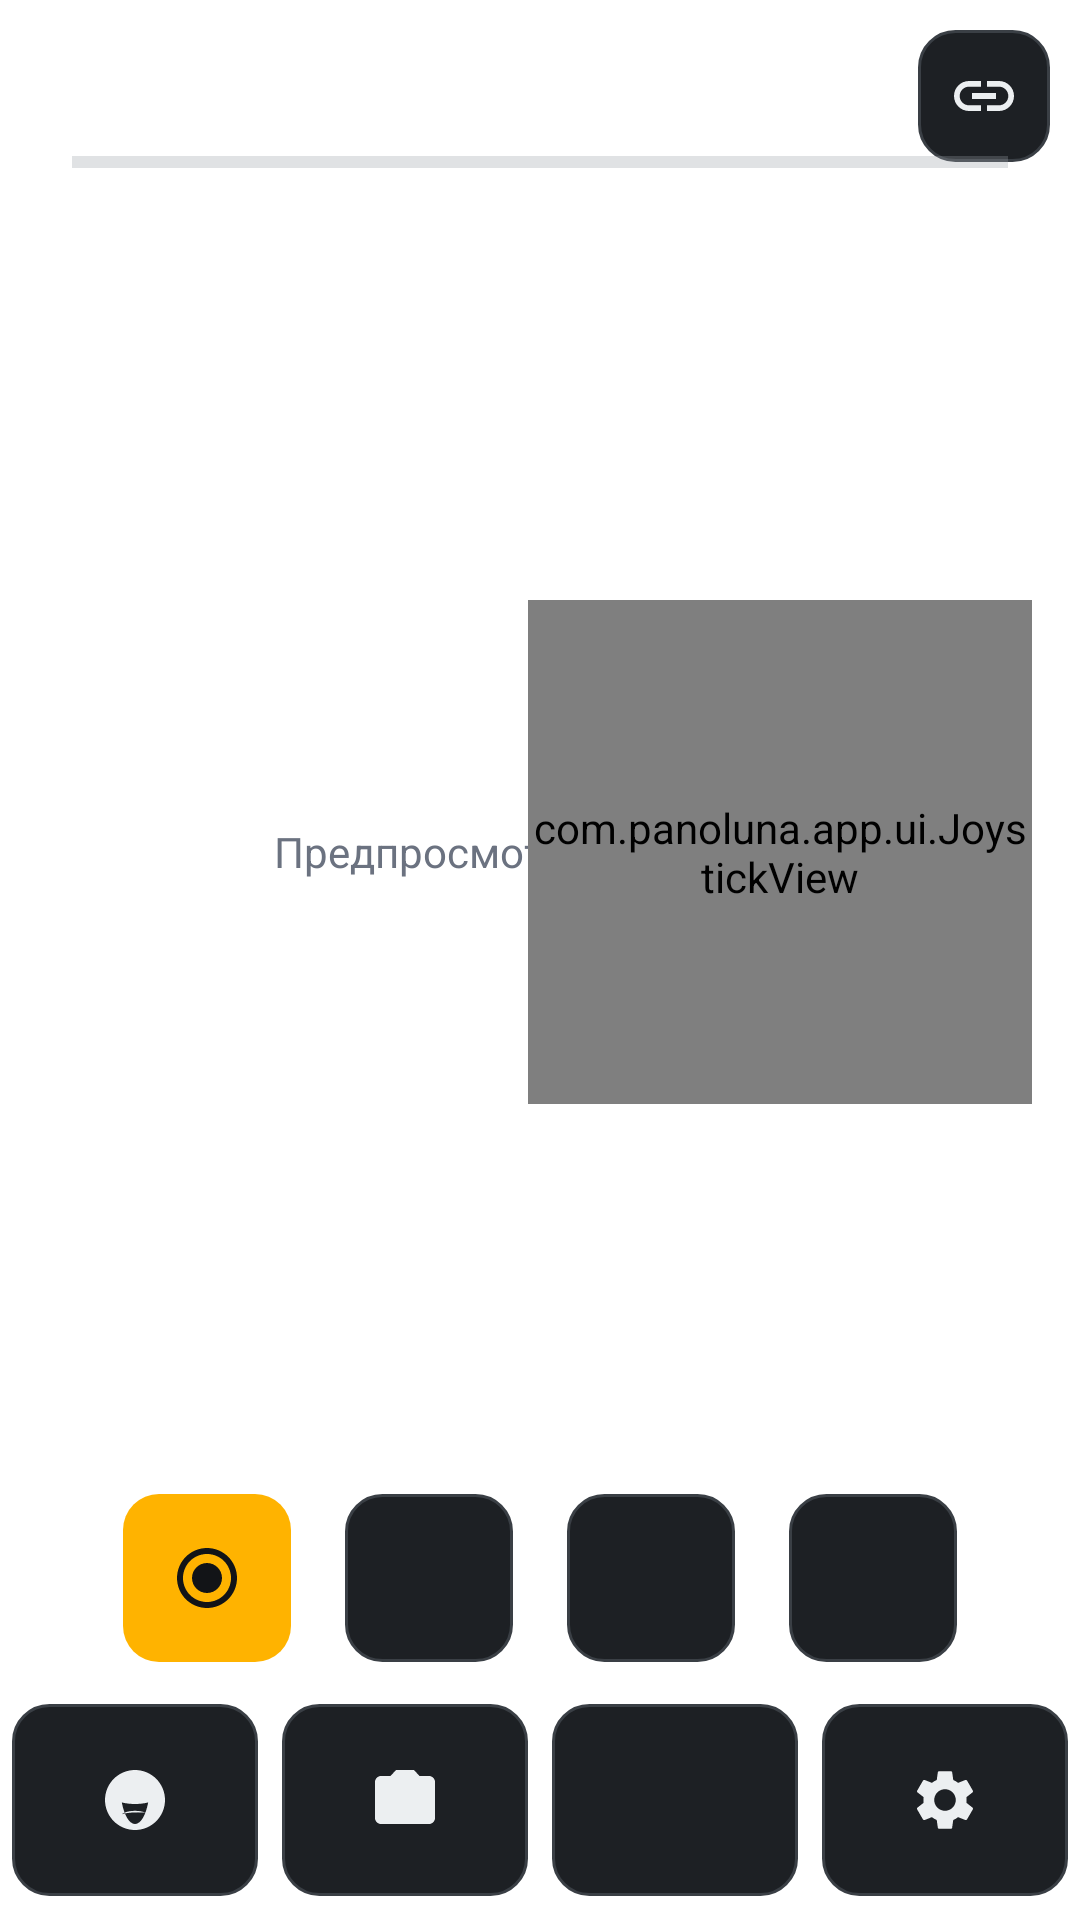

Named icons in this screenshot (1080×1920) and their centers, (x=x, y=y):
Настройки приложения: (x=945, y=1800)
Подключиться: (x=984, y=96)
Старт: (x=207, y=1578)
